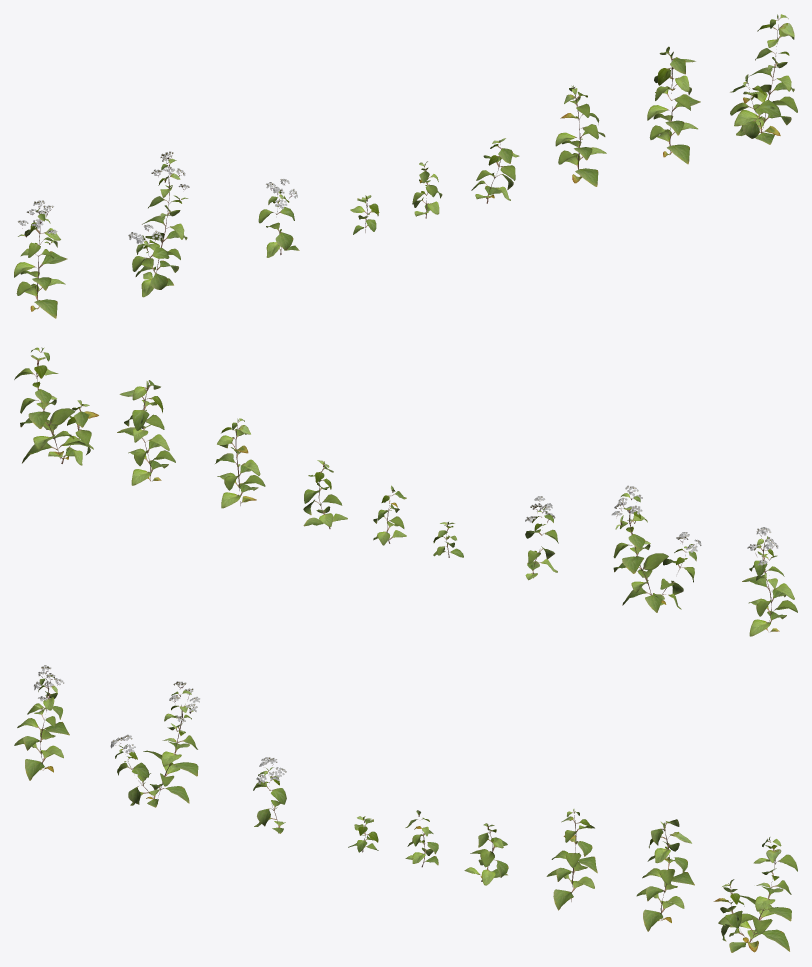
Rendered from Shrub.fbx.
The picture shows the model from 3 angles, top to bottom: view 1: azimuth 30°, elevation 25°; view 2: azimuth 150°, elevation 25°; view 3: azimuth 330°, elevation 25°; orthographic projection. The views are drawn at different scales.
Parts seen in each view (by area): view 1: shrub_01_a; view 2: shrub_01_a; view 3: shrub_01_a.
Boxes of the visible parts, <box> form: shrub_01_a: <box>14,14,797,318</box>; shrub_01_a: <box>14,347,797,636</box>; shrub_01_a: <box>14,665,797,952</box>.
Bounding box in the file's own units: 259 × 39.54 × 21.87.
1 material, 1 textured.
